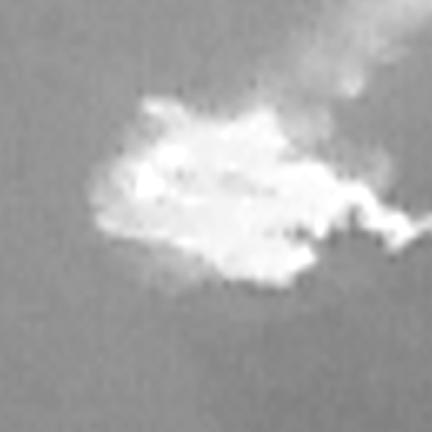flukeprints: (95, 100, 429, 288)
